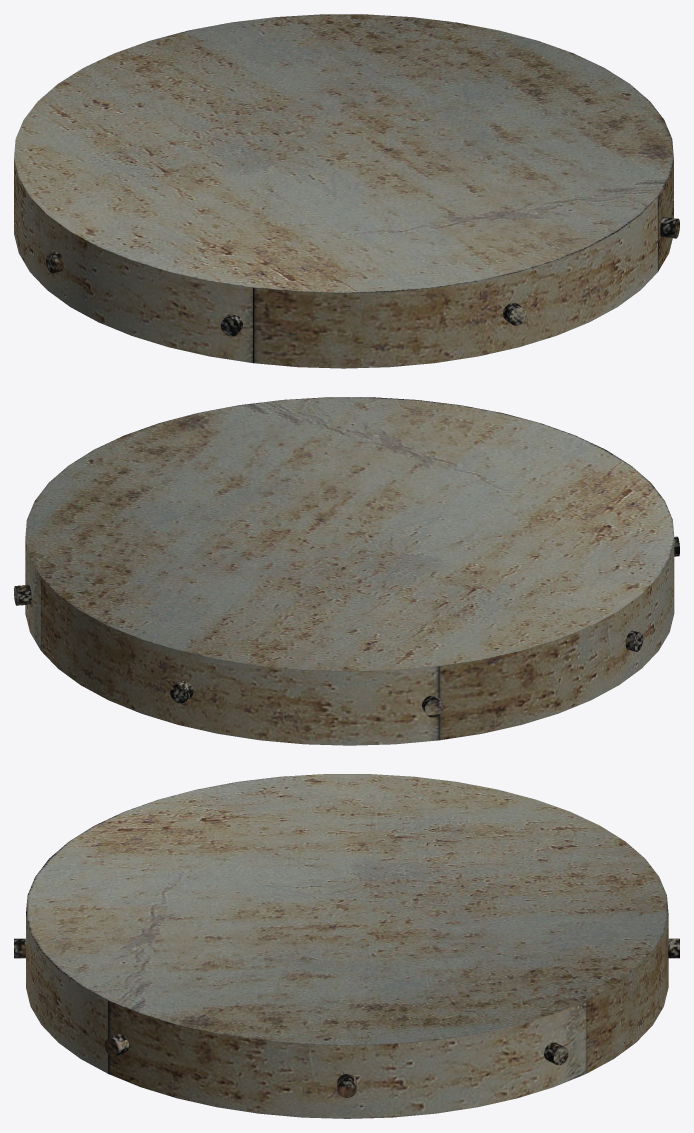
Rendered from futuredoor.FBX.
3 renders of one model, top to bottom at view 1: azimuth 30°, elevation 25°; view 2: azimuth 150°, elevation 25°; view 3: azimuth 270°, elevation 25°, orthographic. The views are drawn at different scales.
Parts seen in each view (by area): view 1: Cylinder001; view 2: Cylinder001; view 3: Cylinder001.
Part boxes in pixels (x1,y1,x2,y2): Cylinder001: [14, 14, 679, 368]; Cylinder001: [14, 397, 679, 745]; Cylinder001: [14, 774, 679, 1118].
Size of the model in its own units: 74.7 by 9.09 by 74.7.
Materials: 2 (2 with a texture image).
